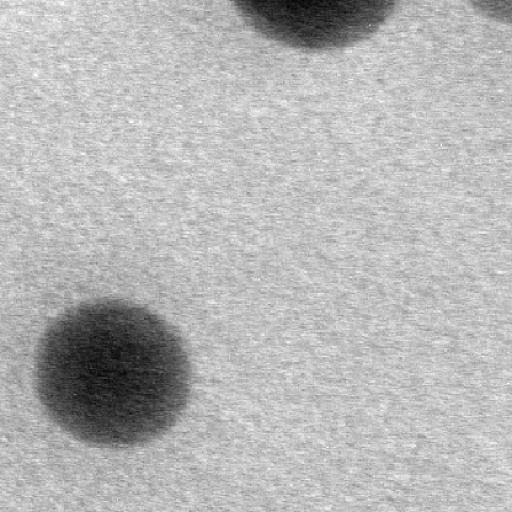Nanoparticles: (30, 290, 196, 455), (224, 0, 415, 59), (459, 0, 512, 22)
